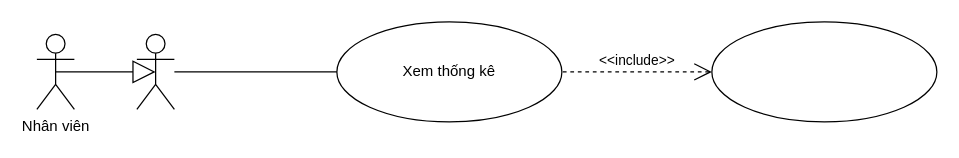
This 959x158 diagram has some shape labels left out. Here are the shapes that lost their labels. From the top down, the centre of each, then its label:
At (155,71): "Admin".
At (824,71): "Đăng nhập".
